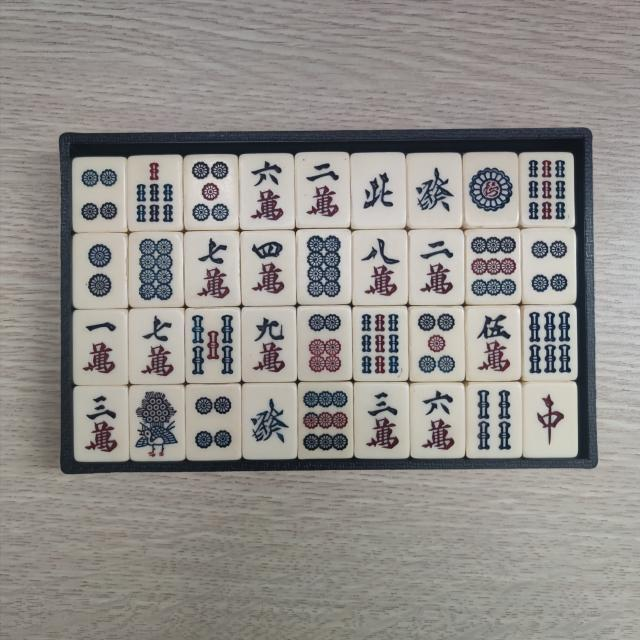hdg: (413, 158, 460, 225), (249, 390, 293, 454)
hdr: (530, 388, 572, 453)
hwn: (356, 158, 400, 224)
sb1: (134, 389, 180, 459)
sb4: (473, 386, 516, 454)
sb5: (190, 313, 236, 381)
sb6: (528, 311, 574, 378)
sb7: (131, 158, 178, 226)
sb9: (359, 312, 403, 378), (527, 156, 570, 222)
sc1: (79, 314, 123, 379)
sc2: (298, 160, 344, 226), (414, 238, 459, 302)
sc3: (80, 391, 124, 457), (361, 388, 404, 454)
sc4: (248, 238, 292, 303)
sc5: (472, 309, 516, 376)
sc6: (244, 157, 288, 225), (418, 388, 461, 454)
sc7: (134, 312, 178, 379), (190, 236, 234, 302)
sc8: (357, 236, 402, 303)
sc9: (248, 313, 292, 379)
sd1: (467, 157, 516, 223)
sd2: (78, 238, 122, 304)
sd4: (191, 390, 236, 456), (526, 236, 571, 301), (78, 162, 122, 226)
sd5: (413, 312, 458, 378), (190, 161, 234, 228)
sd6: (304, 312, 347, 377)
sd8: (136, 236, 180, 304), (303, 236, 346, 302)
sd9: (470, 232, 520, 302), (303, 389, 352, 456)
